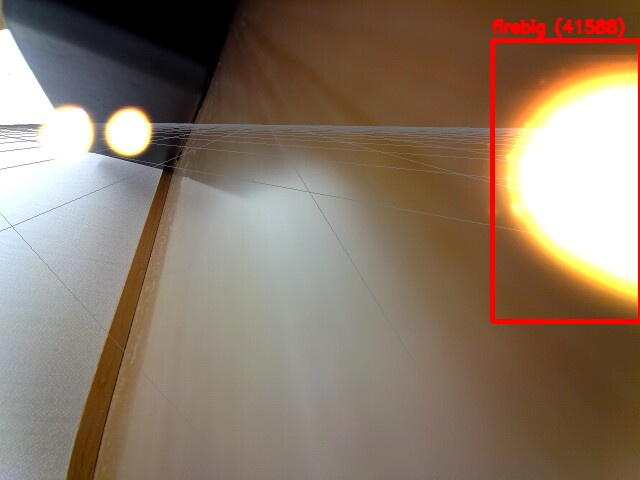firebig: (492, 40, 640, 321)
